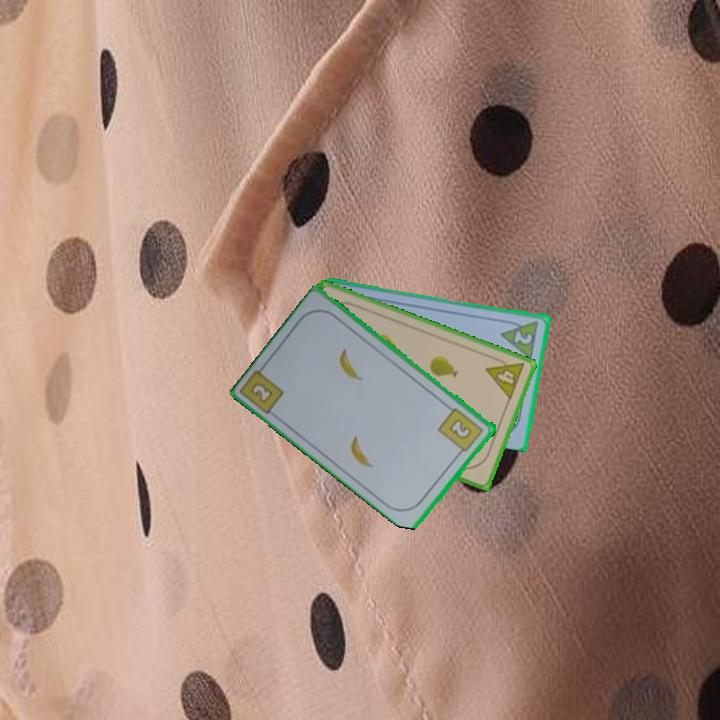2b: (435, 404, 487, 458), (249, 381, 276, 406)
2p: (498, 316, 541, 360)
4p: (482, 352, 528, 403)
